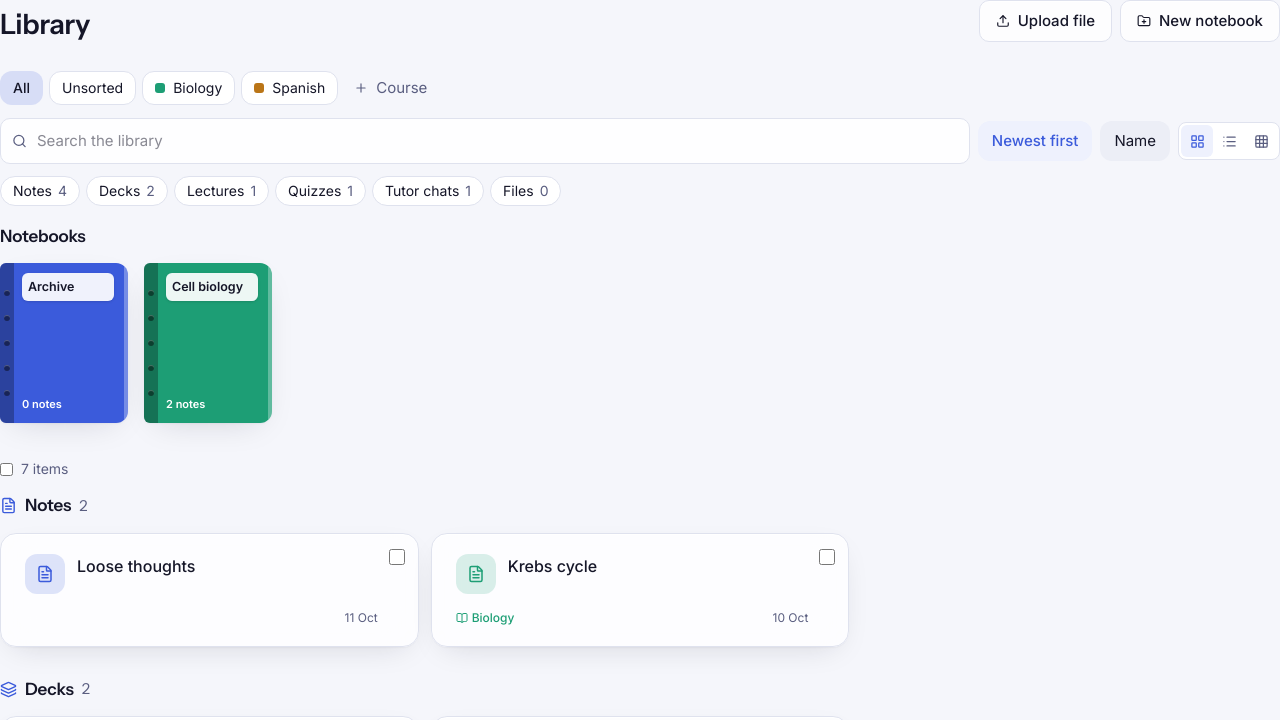
Test case: Library › notebooks are folders › moves ticked notes into a notebook
The image size is (1280, 720).
Click the checkbox named "Loose thoughts": (397,556) [389, 548, 405, 564]
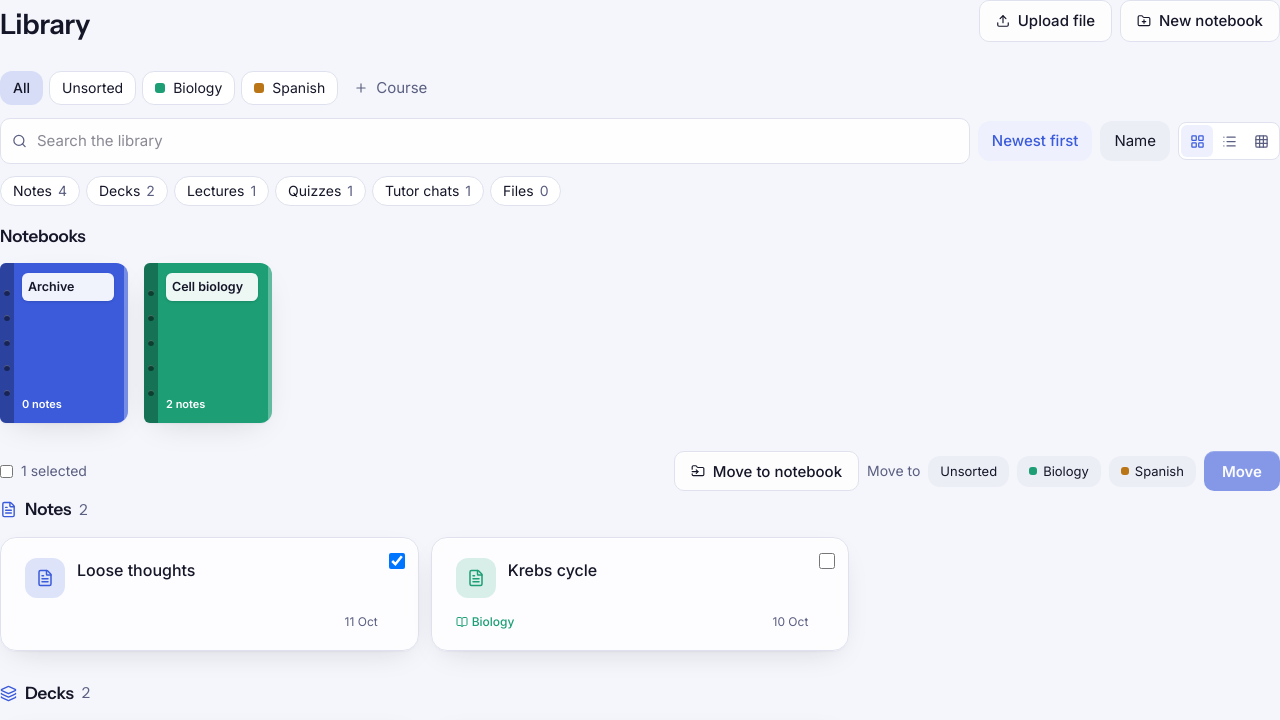
Click the checkbox named "Krebs cycle": (827,560) [819, 552, 835, 568]
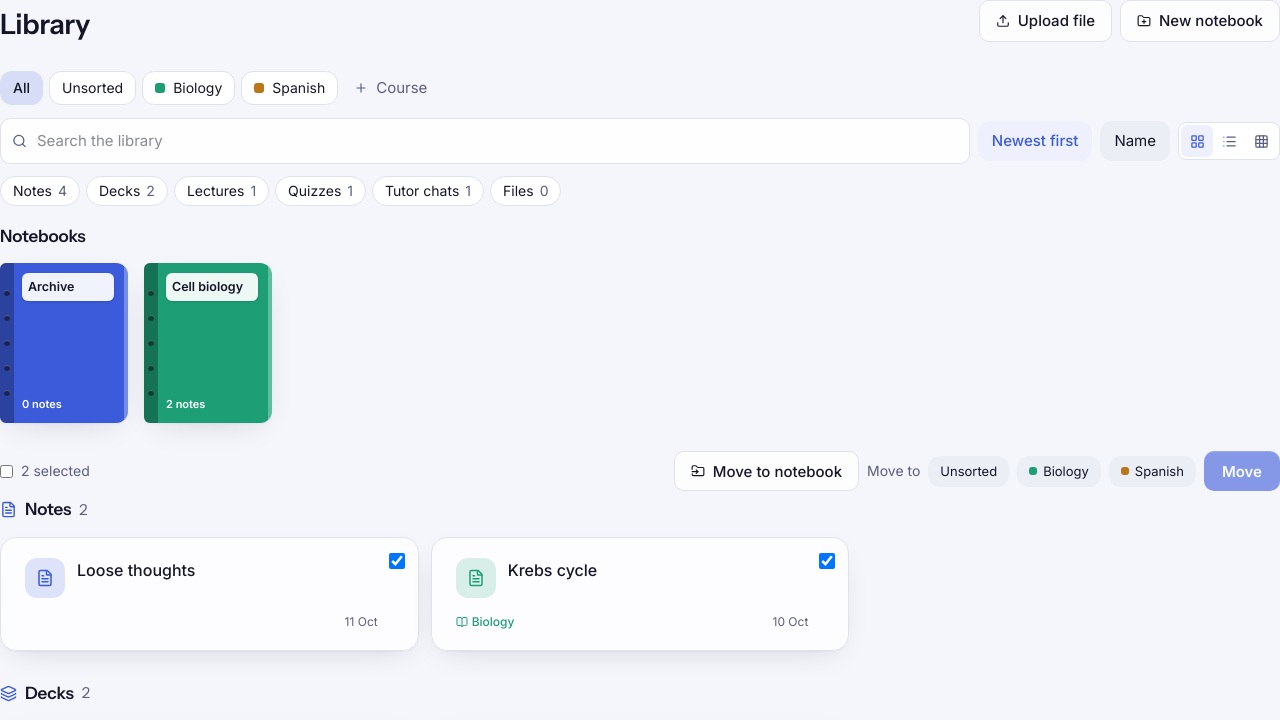
Click the button "Move to notebook": (766,471) [674, 451, 859, 491]
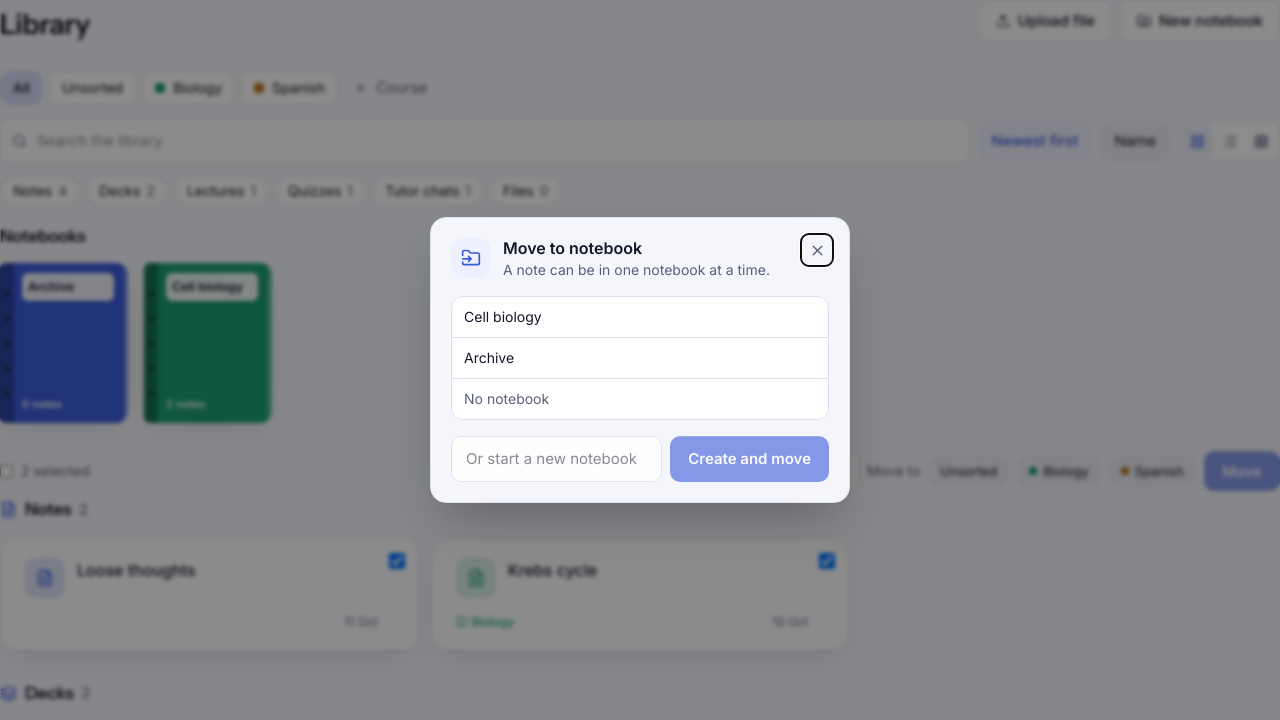
Click the button "Cell biology": (503,316) [452, 297, 828, 337]
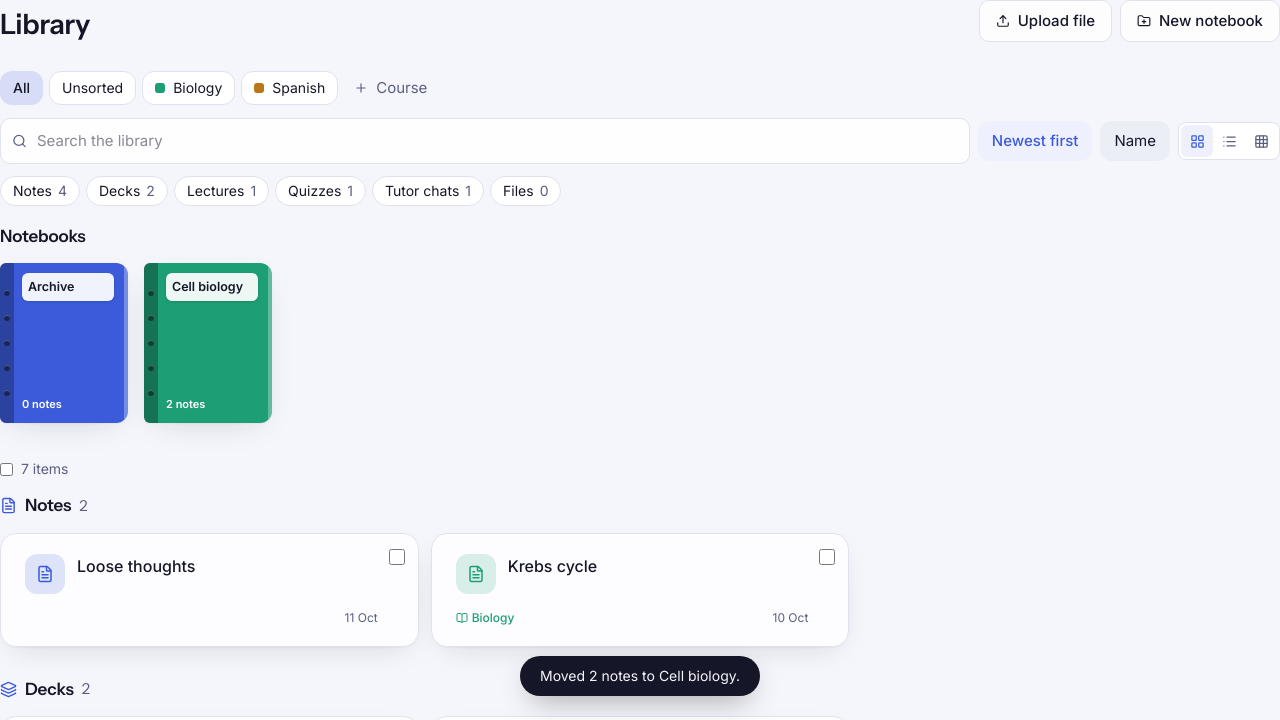
Result: the text "Moved 2 notes to Cell biology." is shown at [520, 656, 760, 696]
